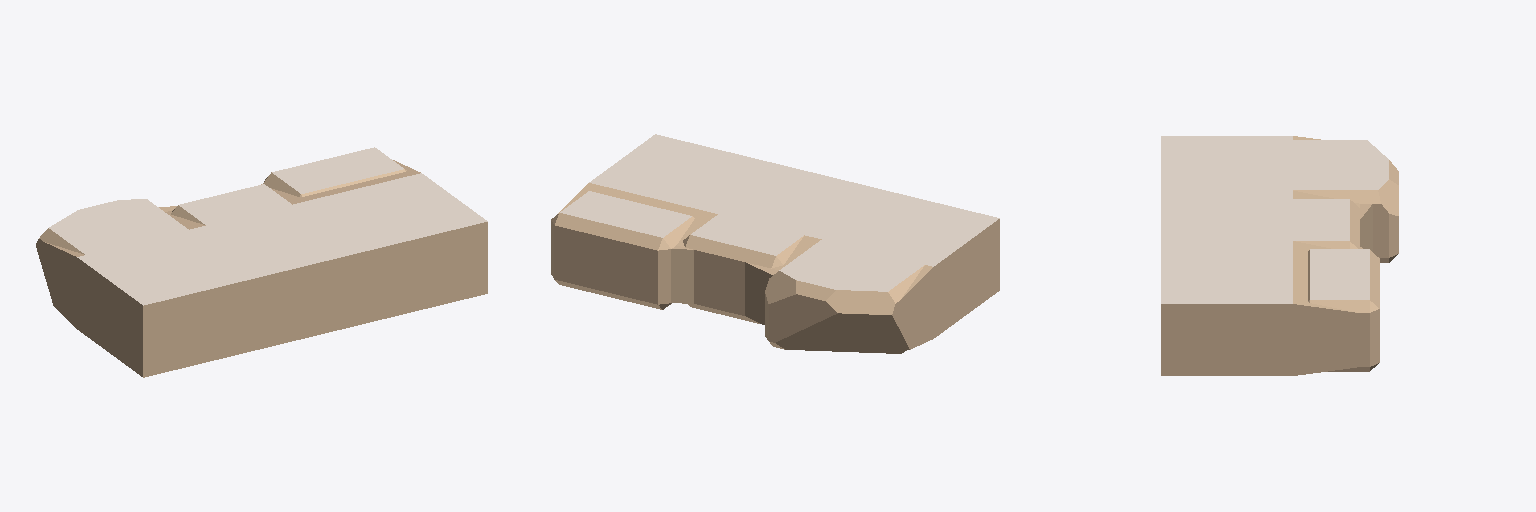
File: Floor_Ruined_Straight_2.obj
3 renders of one model, left to right at view 1: azimuth 30°, elevation 25°; view 2: azimuth 150°, elevation 25°; view 3: azimuth 270°, elevation 25°, orthographic.
Visible parts, largest first — view 1: object1; view 2: object1; view 3: object1.
Boxes of the visible parts, x1=… form: object1: x1=36, y1=147, x2=487, y2=377; object1: x1=551, y1=134, x2=999, y2=353; object1: x1=1161, y1=136, x2=1398, y2=375.
Bounding box in the file's own units: 1 × 0.2 × 0.6.